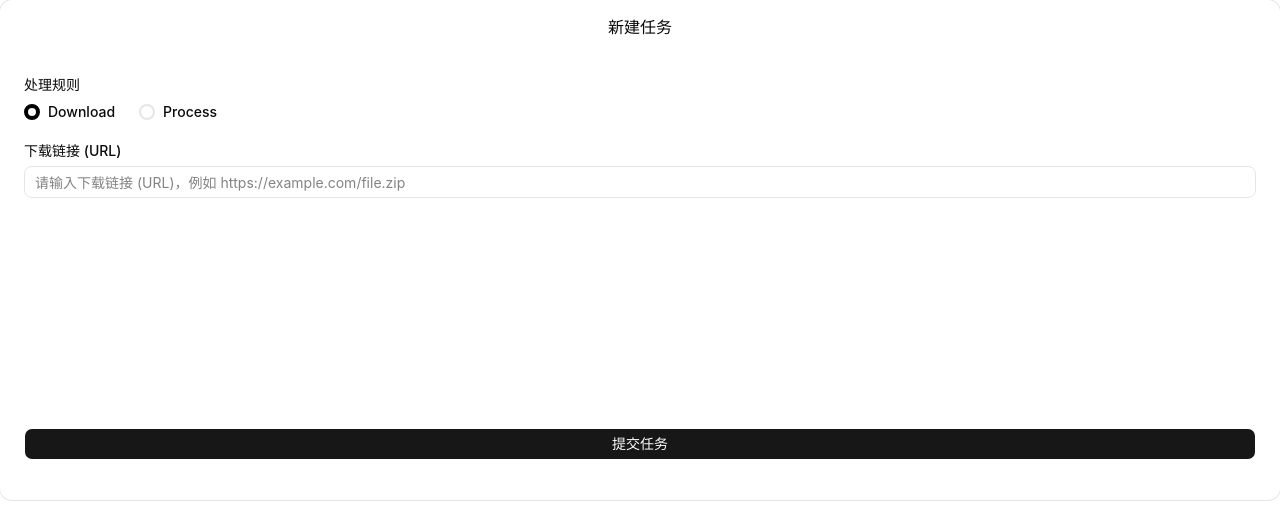
Test: TaskForm › should render process form when changing to Process radio
Click the radio button named "Process" next to "Process".
click(147, 112)  # box x1=139 y1=104 x2=155 y2=120
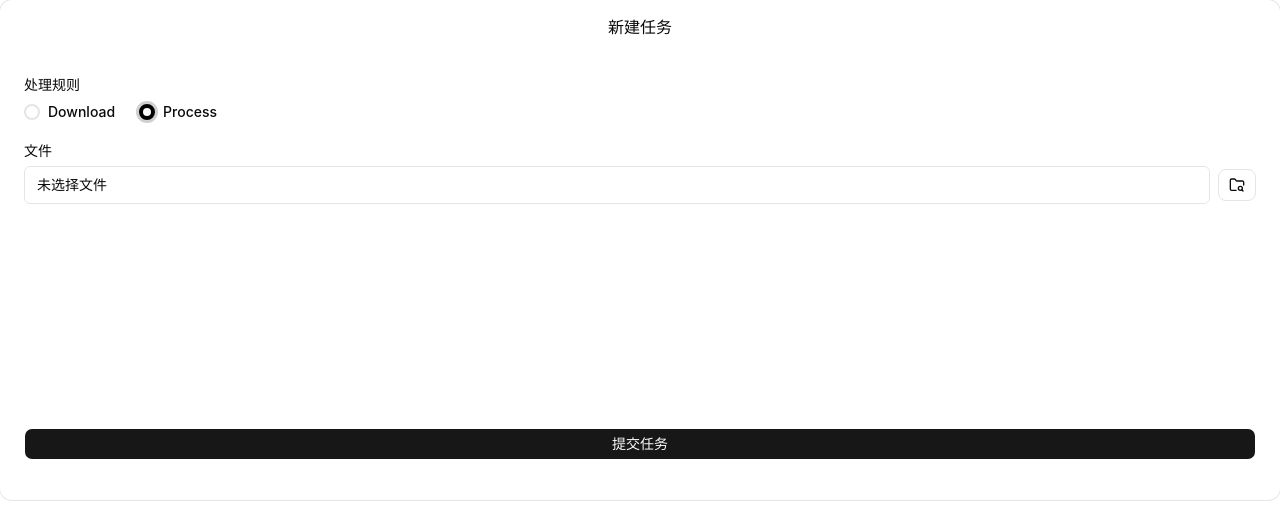
Expected: the button "提交任务" is shown, x1=24 y1=428 x2=1256 y2=460
Expected: the text "未选择文件" is shown, x1=37 y1=175 x2=107 y2=195
